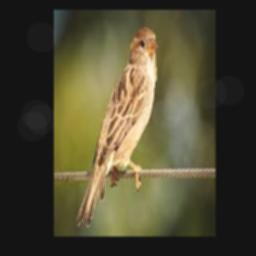Sparrow: (76, 27, 157, 228)
